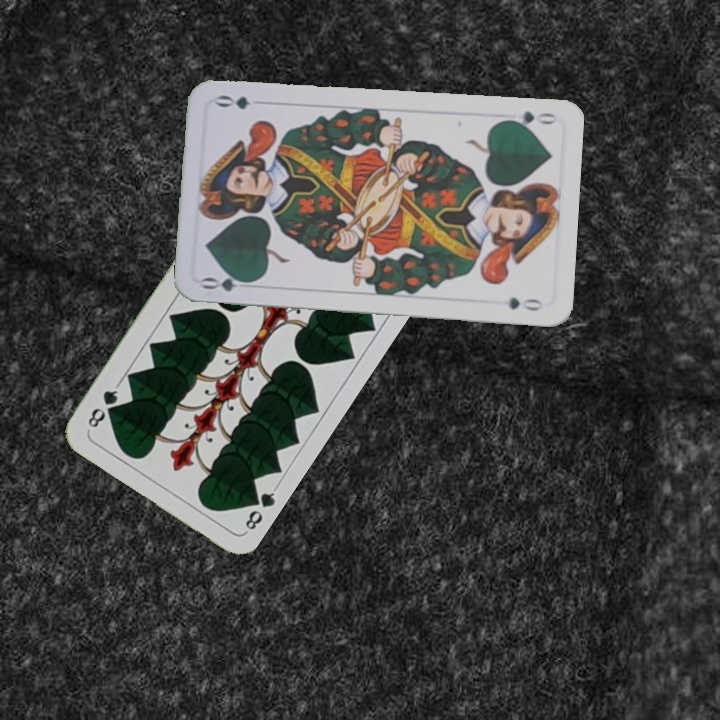G8: (241, 483, 280, 535)
GO: (498, 107, 558, 131), (198, 272, 258, 294)
